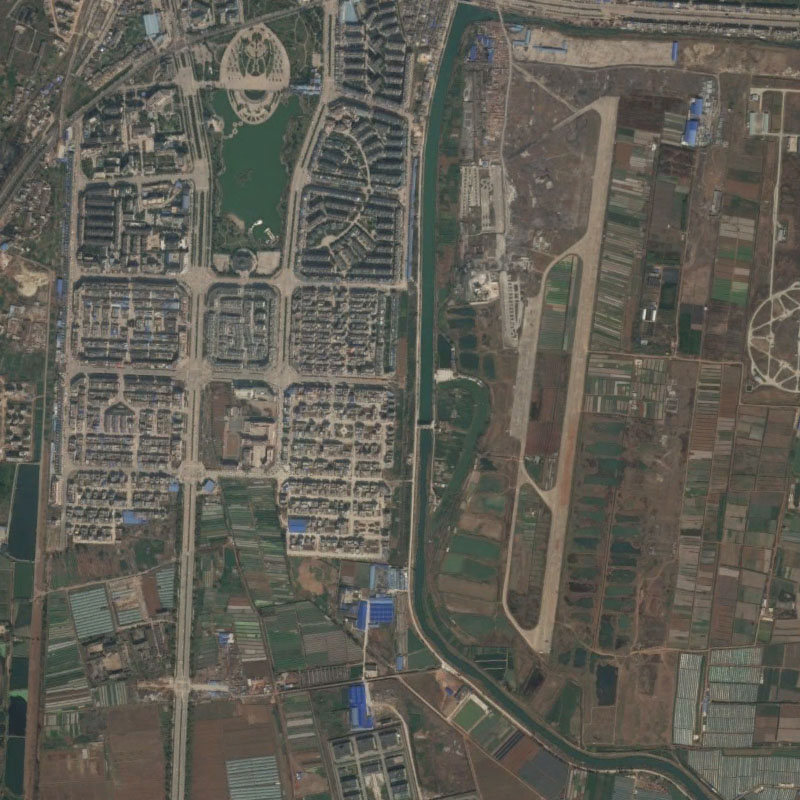airport: (503, 95, 618, 656)
